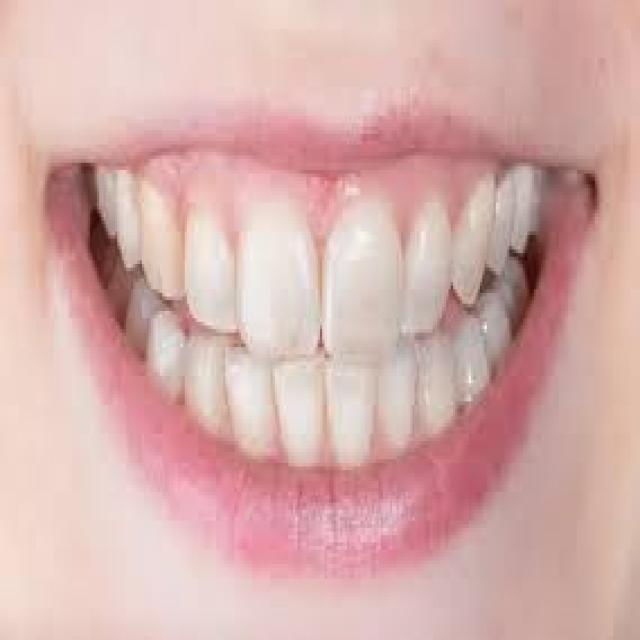tooth: (241, 188, 318, 351), (327, 199, 403, 358), (180, 199, 239, 333), (270, 351, 324, 474), (403, 199, 451, 336), (327, 347, 376, 470), (133, 181, 180, 300), (451, 170, 489, 300), (228, 340, 266, 466), (185, 329, 228, 438), (417, 333, 457, 434), (378, 340, 414, 445), (496, 180, 538, 268), (480, 293, 521, 372), (117, 268, 151, 350), (155, 307, 185, 398), (496, 260, 530, 329), (117, 163, 140, 264), (455, 329, 487, 401), (92, 166, 115, 235)
